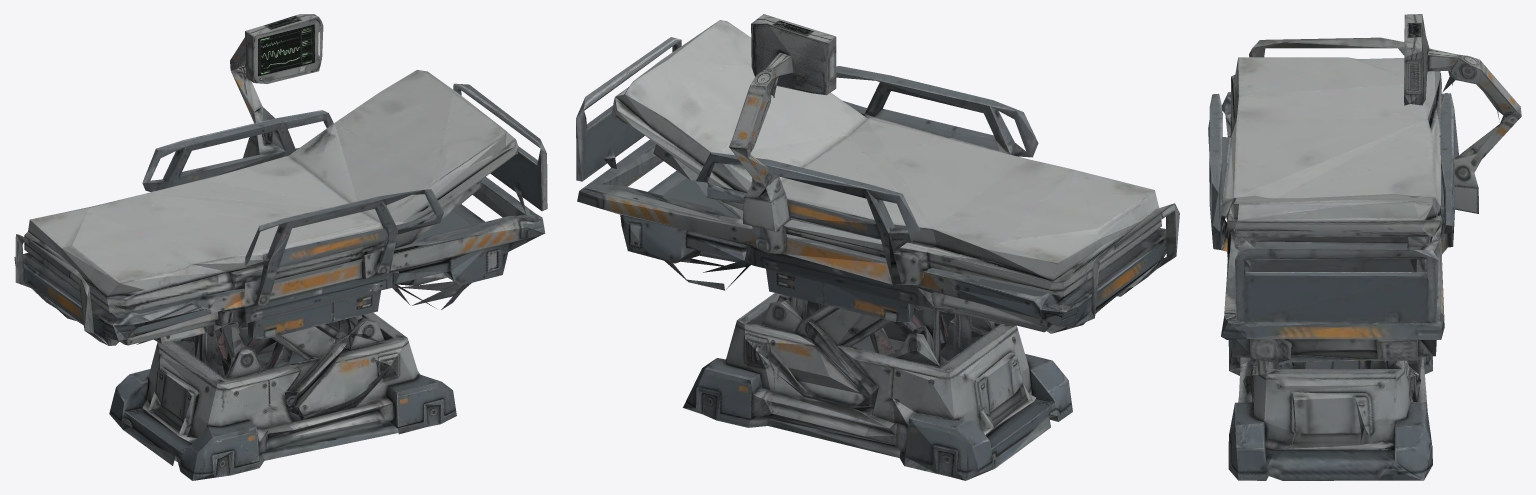
Rendered from medbed.glb.
3 views of the same model, side by side, from view 1: azimuth 30°, elevation 25°; view 2: azimuth 150°, elevation 25°; view 3: azimuth 270°, elevation 25° (orthographic). The views are drawn at different scales.
Parts seen in each view (by area): view 1: Mesh_0; view 2: Mesh_0; view 3: Mesh_0.
Boxes of the visible parts, bbox=[...] form: Mesh_0: bbox=[14, 14, 547, 480]; Mesh_0: bbox=[576, 14, 1179, 480]; Mesh_0: bbox=[1208, 14, 1521, 480].
Size of the model in its own units: 2.1 by 1.58 by 1.12.
1 material, 1 textured.
